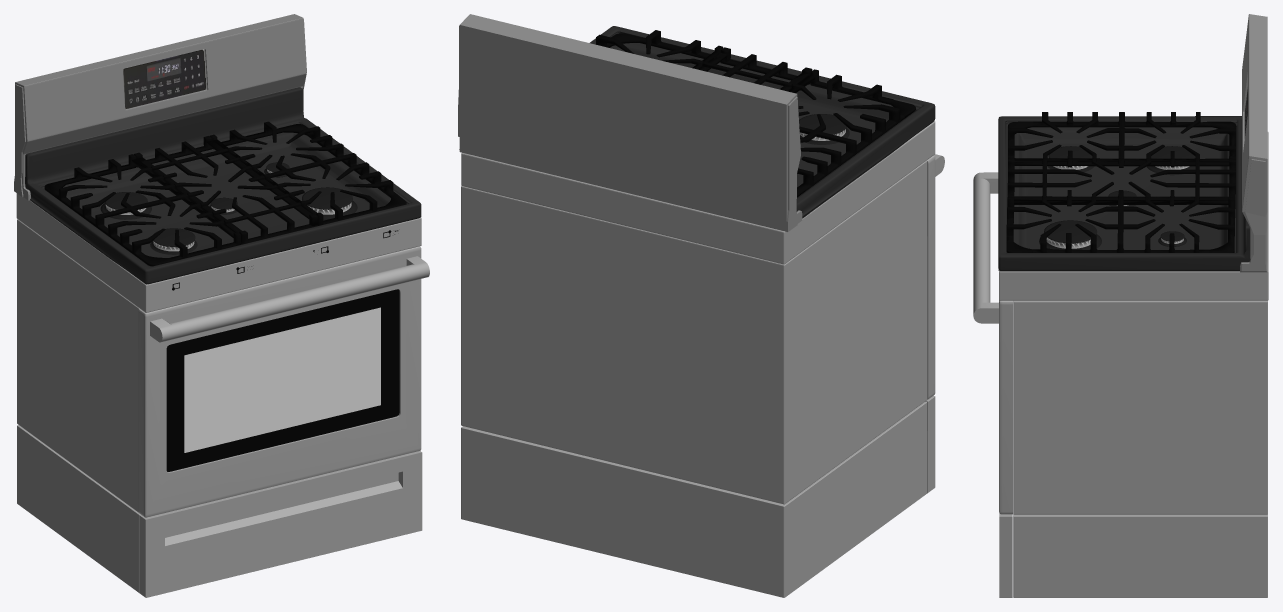
File: Oven.fbx
3 renders of one model, left to right at view 1: azimuth 30°, elevation 25°; view 2: azimuth 150°, elevation 25°; view 3: azimuth 270°, elevation 25°, orthographic. The views are drawn at different scales.
Visible parts, largest first — view 1: Text.012; view 2: Text.012; view 3: Text.012.
Boxes of the visible parts, <box> form: Text.012: <box>14,14,429,597</box>; Text.012: <box>458,14,944,597</box>; Text.012: <box>973,14,1268,597</box>.
Size of the model in its own units: 68 by 97.55 by 58.96.
Materials: 12 (1 with a texture image).
